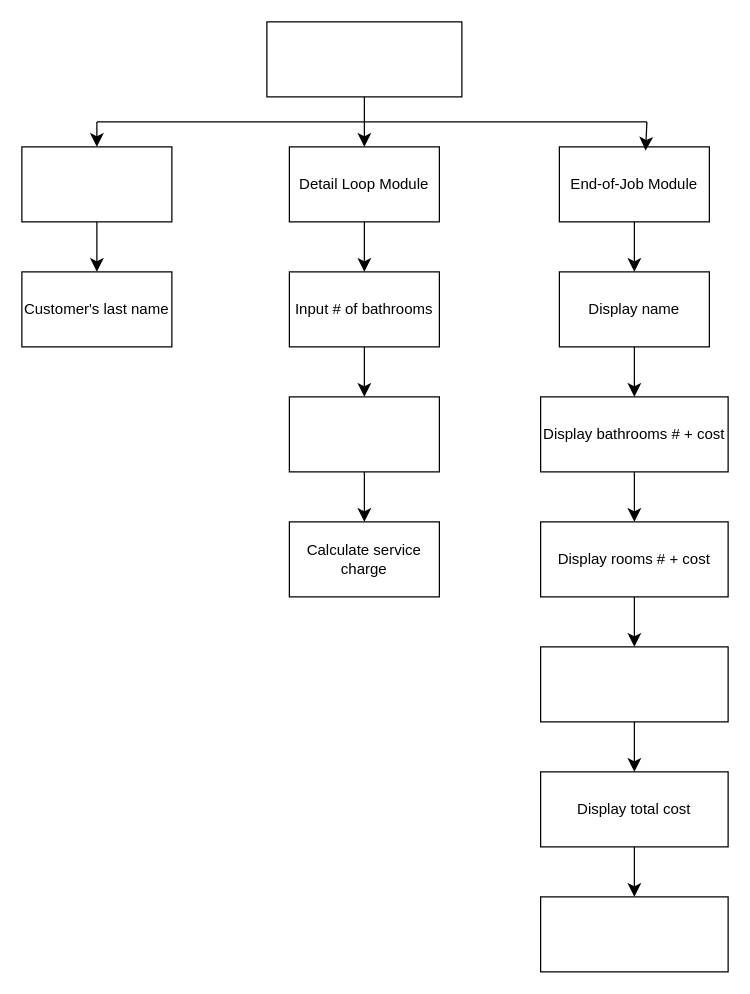
Some shapes in this 750 by 994 pixel diagram are drawn without their labels. Each missing label, with the centre of its shape:
Display "Program is complete": pixel 633 934
Display service charge: pixel 633 684
Housekeeping Module: pixel 96 184
Input # of rooms: pixel 363 434
Main Program: pixel 364 59
